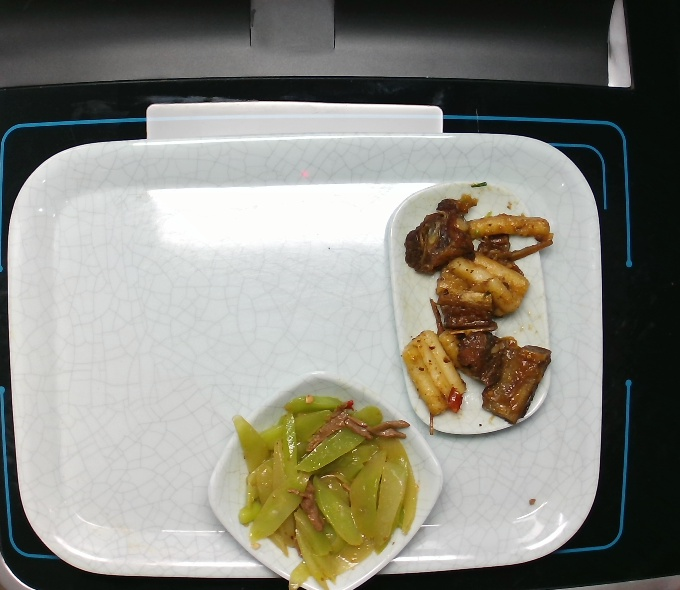wcq-NianGaoZaiPai: (398, 194, 555, 438)
wcq-WoSun: (231, 391, 421, 590)
